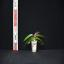leaf: (25, 37, 34, 47), (24, 34, 34, 42), (35, 37, 44, 45), (34, 34, 45, 39), (26, 39, 34, 45), (35, 39, 42, 45), (27, 40, 34, 45), (34, 32, 39, 37)
